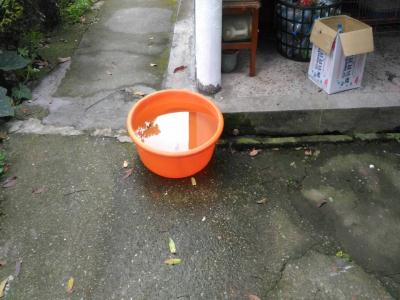bowl: (124, 86, 229, 181)
box: (304, 11, 378, 96)
